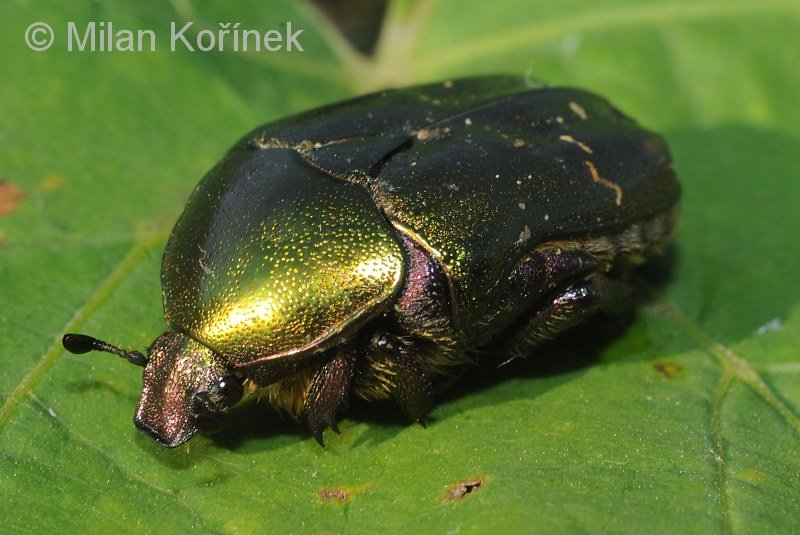Protaetia_metallica: (51, 68, 692, 473)
